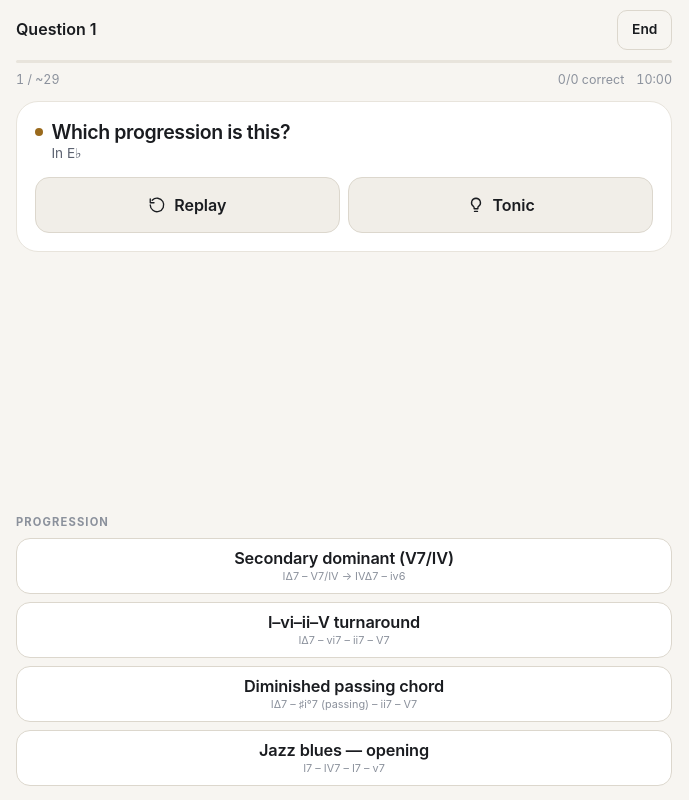
Test: the answer panel folds away › is a button, labelled, and big enough to hit
Click the button "Secondary dominant (V7/IV) I∆7 – V7/IV → IV∆7 – iv6" at (344, 566), box 16,538 -> 672,594
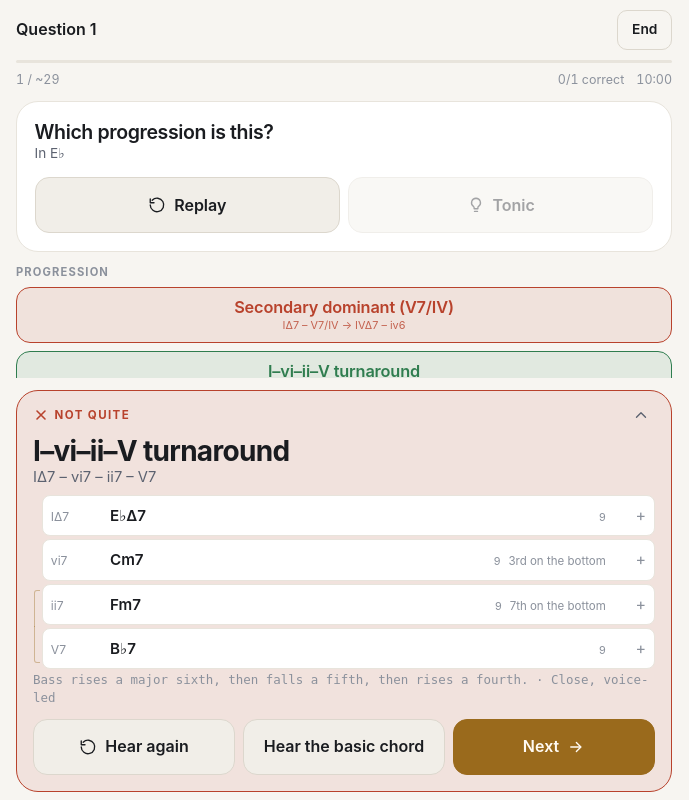
Click the button with class "feedback__fold" at (641, 415), box 619,393 -> 663,437
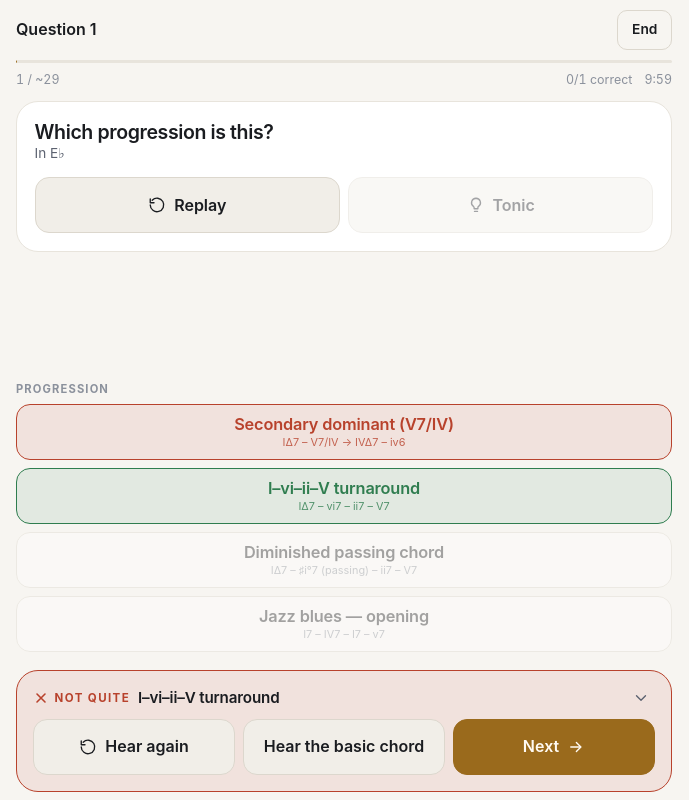
Check: the button with class "feedback__fold" has attribute aria-label="Show answer", box 619,676 -> 663,720
